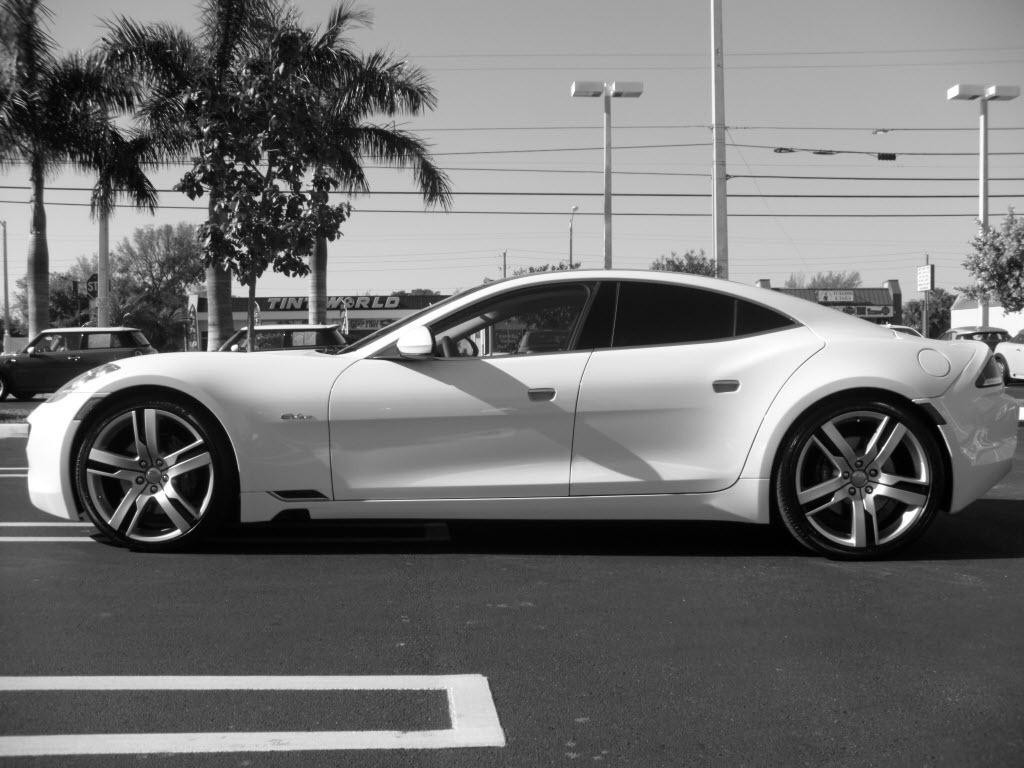car: (24, 268, 1022, 567)
